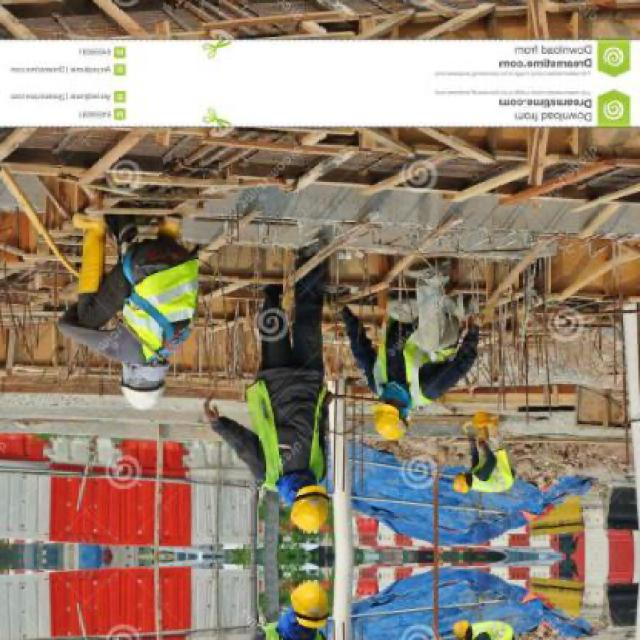con casco: (70, 323, 236, 437), (249, 453, 341, 538), (384, 368, 442, 468)
